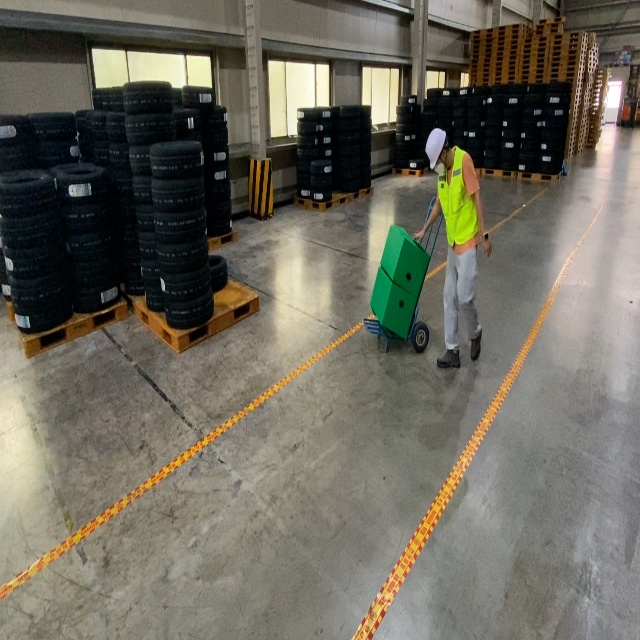Box: (380, 225, 430, 298), (370, 265, 418, 341)
Worker: (412, 128, 493, 368)
